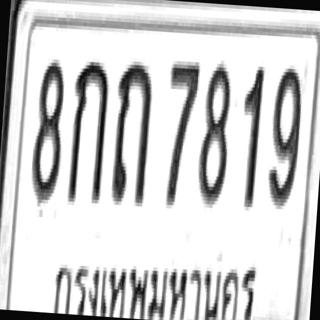A01: (66, 56, 110, 206)
A22: (109, 57, 155, 207)
N01: (236, 62, 264, 207)
N07: (161, 58, 200, 208)
N08: (28, 56, 67, 206), (196, 61, 233, 207)
N09: (266, 66, 304, 208)
P04: (45, 242, 262, 320)
